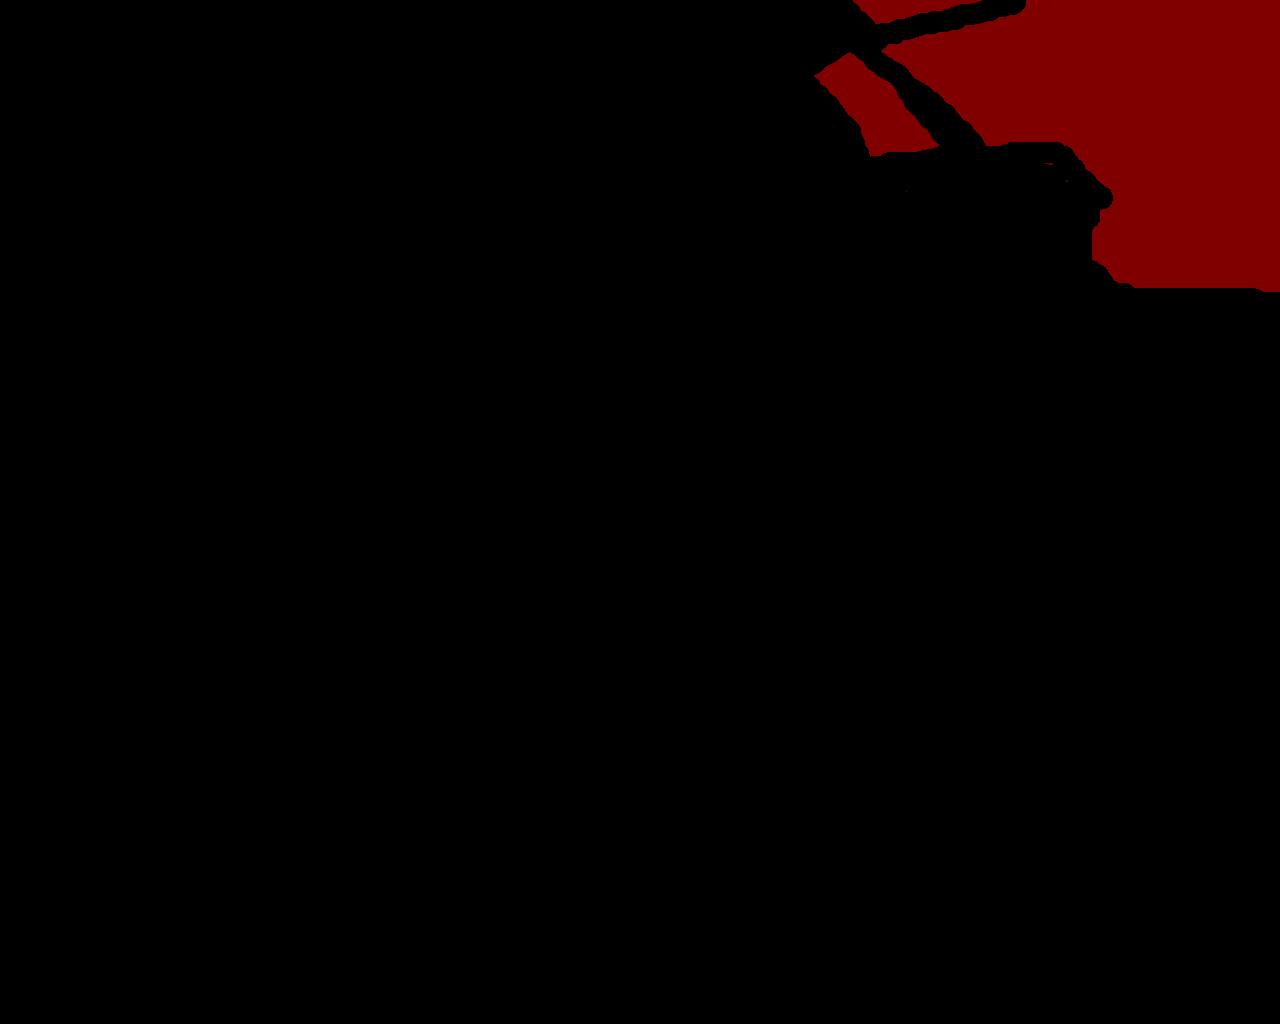Sky: (814, 1, 1279, 292)
